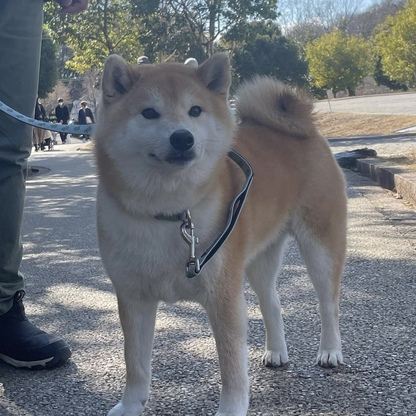shiba: (78, 45, 360, 416)
